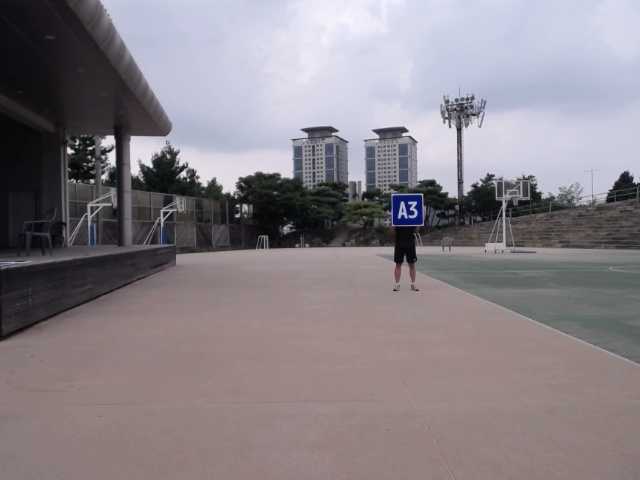delivery_a3: (392, 193, 423, 226)
